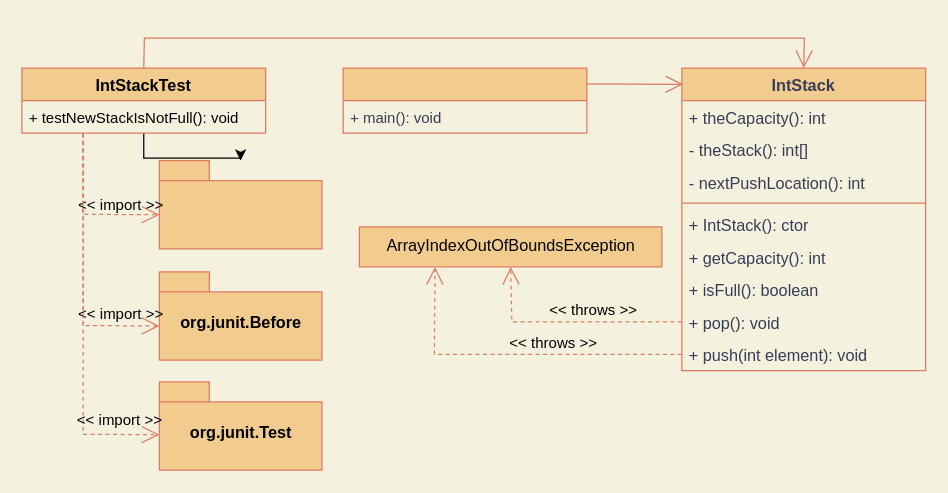
This 948x493 diagram has some shape labels left out. The box of each missing label's shape, as (x1, y1, x2, y2) in pixels:
IntStackMain: (342, 67, 587, 133)
org.junit.Assert: (158, 159, 322, 249)
